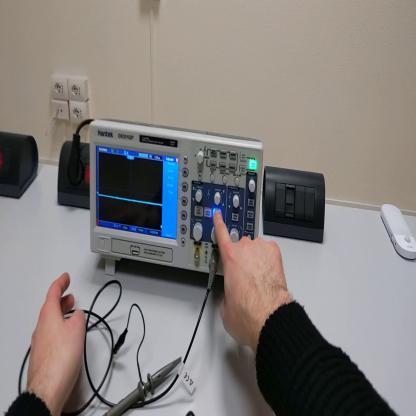hand: (212, 205, 291, 350), (29, 275, 86, 403)
oscilloscope: (91, 120, 264, 278)
oscilloscope probe tip: (103, 357, 181, 416)
socket: (1, 130, 41, 204), (58, 141, 91, 209)
